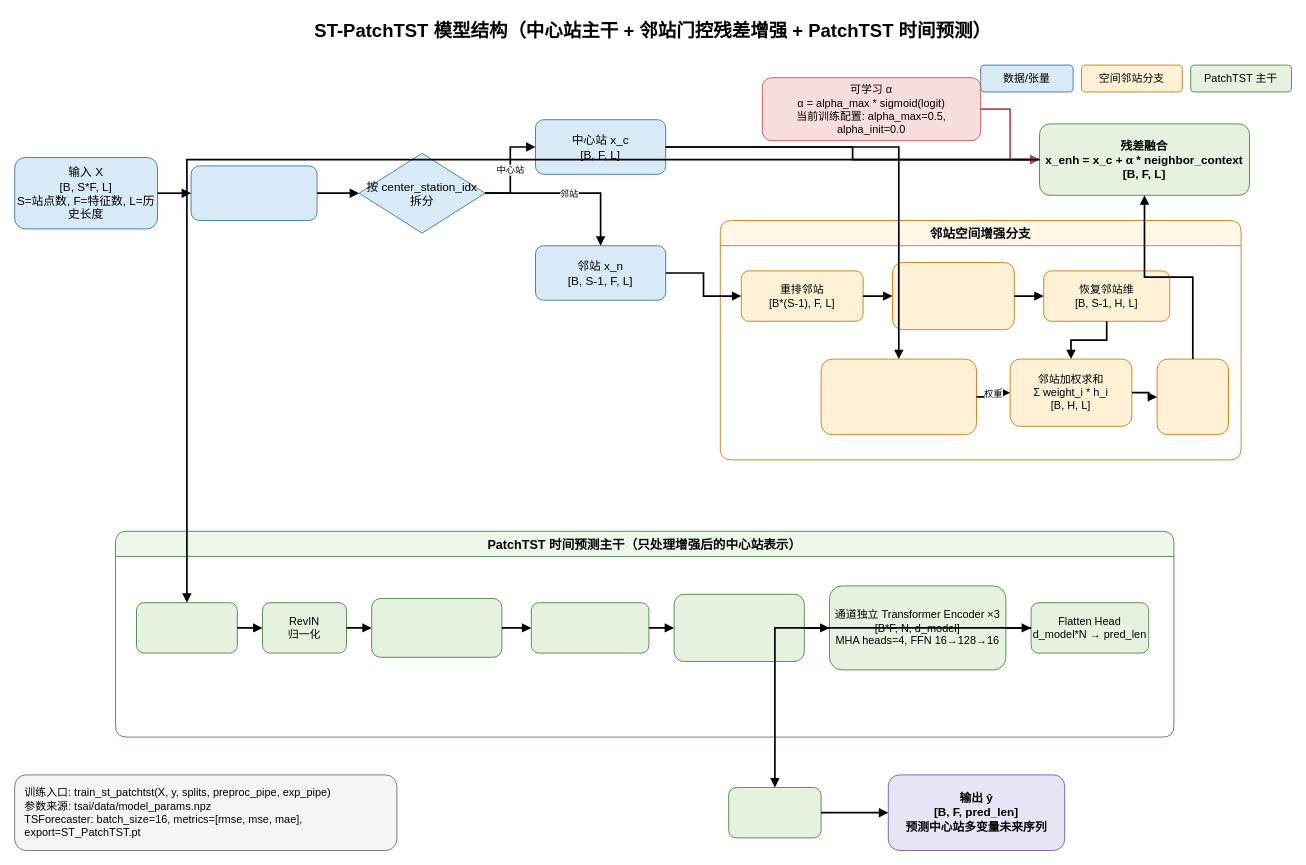
Some shapes in this 1306 by 865 pixel diagram are drawn without their labels. Here are the shapes that lost their labels. From the top down, the centre of each, then its label:
At (253,192): "Reshape [B, S, F, L]".
At (953,296): "共享 1x1 Conv F → H GELU + Dropout".
At (898,396): "中心站门控 MLP AvgPool + Flatten F → H → S-1 Softmax 得到邻站权重".
At (1192,396): "1x1 Conv H → F neighbor_context [B, F, L]".
At (186,627): "PatchTST 输入 [B, F, L]".
At (436,627): "ReplicationPad + Unfold patch_len=4, stride=2".
At (589,627): "Patch 张量 [B, F, patch_len, N]".
At (738,627): "Patch Embedding Linear patch_len → d_model + 位置编码".
At (774,812): "RevIN 反归一化".
